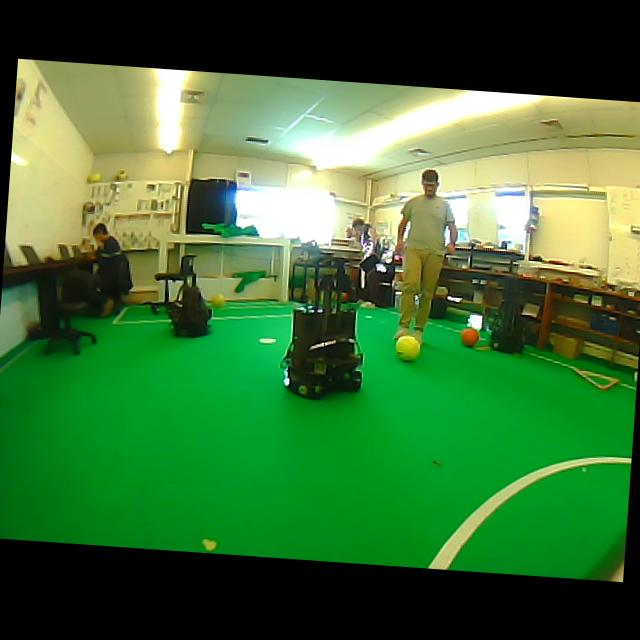ball: (395, 334, 420, 360), (461, 327, 477, 346), (210, 293, 225, 308), (87, 171, 102, 182), (114, 169, 127, 180)
goal: (278, 238, 290, 302)
robot: (281, 256, 361, 397), (168, 255, 210, 336), (490, 278, 524, 352)
